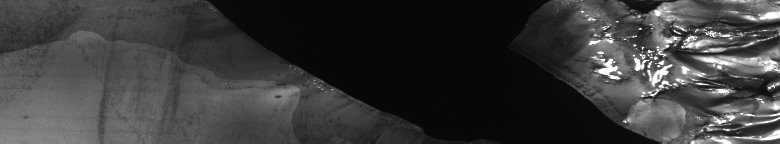ke: (557, 4, 776, 136)
